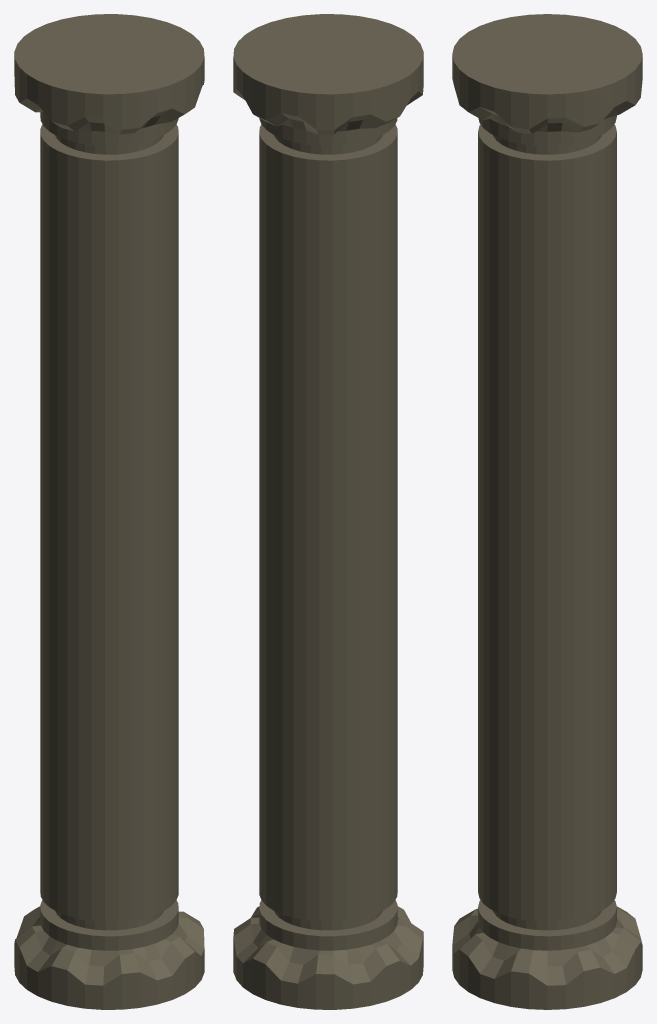
The model's file is Coloumn5.fbx.
The picture shows the model from 3 angles, left to right: view 1: azimuth 30°, elevation 25°; view 2: azimuth 150°, elevation 25°; view 3: azimuth 270°, elevation 25°; orthographic projection.
Visible parts, largest first — view 1: Coloumn5; view 2: Coloumn5; view 3: Coloumn5.
Boxes of the visible parts, bbox=[...] form: Coloumn5: bbox=[14, 14, 204, 1009]; Coloumn5: bbox=[233, 14, 423, 1009]; Coloumn5: bbox=[452, 14, 642, 1009].
Bounding box in the file's own units: 94.26 × 500 × 94.26.
